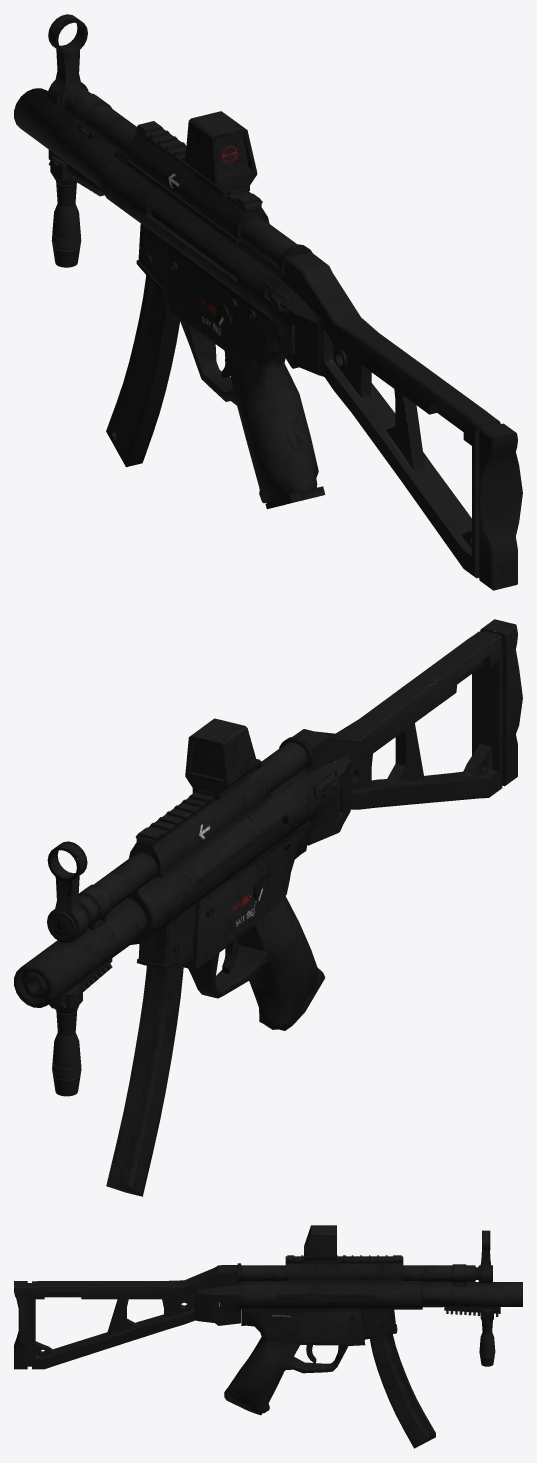
File: smg.glb
3 renders of one model, top to bottom at view 1: azimuth 30°, elevation 25°; view 2: azimuth 150°, elevation 25°; view 3: azimuth 270°, elevation 25°, orthographic. The views are drawn at different scales.
Parts seen in each view (by area): view 1: smg; view 2: smg; view 3: smg.
Part boxes in pixels (left/top/right/bottom): smg: left=14, top=14, right=522, bottom=590; smg: left=14, top=619, right=522, bottom=1196; smg: left=14, top=1225, right=522, bottom=1448.
Size of the model in its own units: 0.0399 by 0.2827 by 0.6.
1 material, 1 textured.
